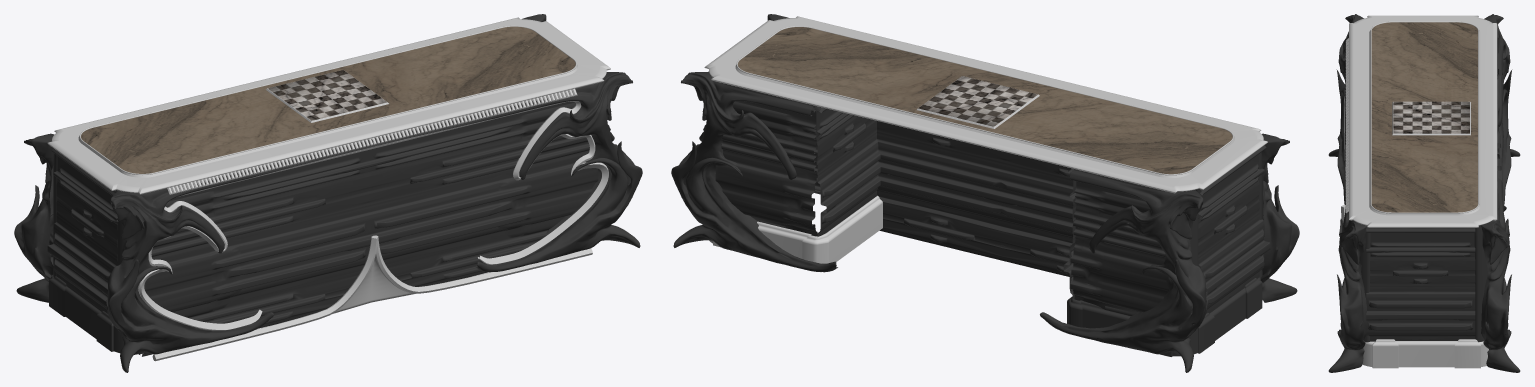
File: Desk_Concept_03.fbx
3 views of the same model, side by side, from view 1: azimuth 30°, elevation 25°; view 2: azimuth 150°, elevation 25°; view 3: azimuth 270°, elevation 25° (orthographic). The views are drawn at different scales.
Visible parts, largest first — view 1: Desk_front_flat, Desk_tpp, Desk_New73, Gold_Trim_Front, Object006, Desk_front_flat001; view 2: Desk_front_flat001, Object006, Desk_tpp, Desk_New73, Desk_front_flat; view 3: Desk_tpp, Desk_New73, Object006, Desk_front_flat001, Desk_front_flat, Gold_Trim_Front.
Boxes of the visible parts, box(x1,y1,x2,y2) form: Desk_front_flat: box(106, 72, 642, 372); Desk_tpp: box(81, 26, 575, 173); Desk_New73: box(47, 17, 610, 354); Gold_Trim_Front: box(138, 101, 608, 361); Object006: box(47, 148, 123, 313); Desk_front_flat001: box(14, 14, 546, 302); Desk_front_flat001: box(671, 71, 1207, 372); Object006: box(817, 107, 1270, 313); Desk_tpp: box(738, 27, 1232, 174); Desk_New73: box(704, 16, 1267, 356); Desk_front_flat: box(767, 14, 1299, 302); Desk_tpp: box(1371, 22, 1477, 212); Desk_New73: box(1345, 15, 1498, 368); Object006: box(1359, 221, 1491, 342); Desk_front_flat001: box(1481, 14, 1520, 372); Desk_front_flat: box(1328, 14, 1367, 372); Gold_Trim_Front: box(1341, 96, 1345, 222).
Size of the model in its own units: 259 by 93.41 by 81.89.
